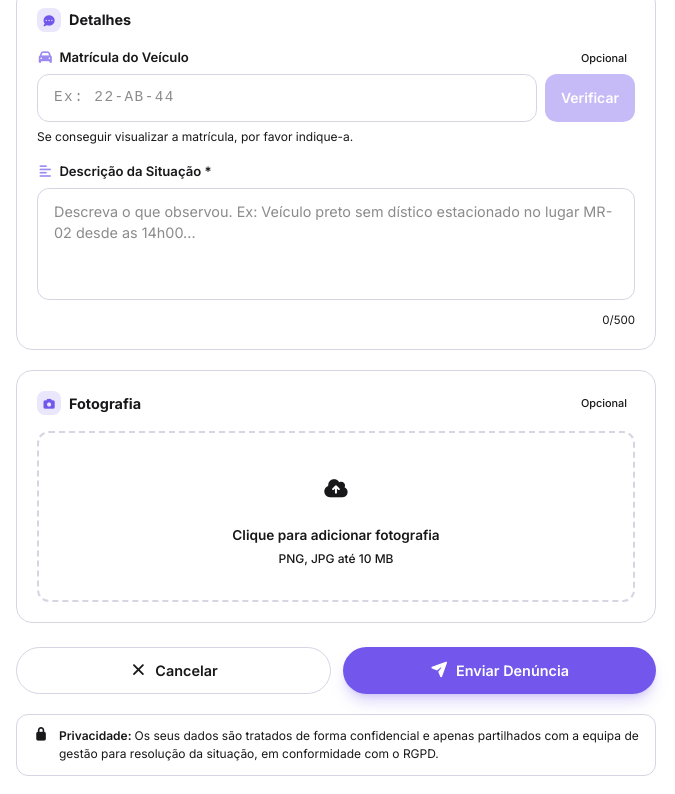
it: ReportPage — Step1Form › shows validation errors on empty submit
(page scrolled)
Click the button "Enviar Denúncia": [500, 670] box [343, 647, 656, 694]
(page scrolled)
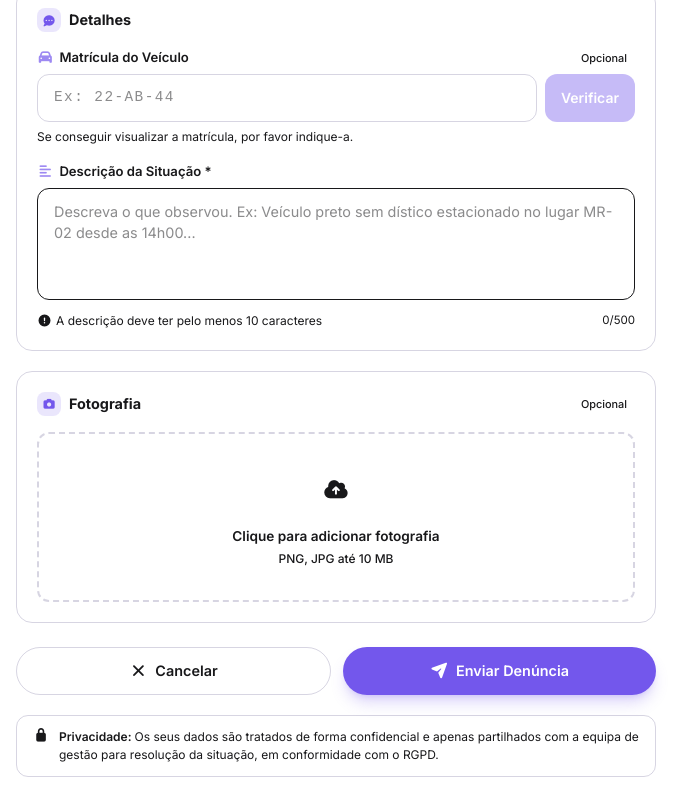
Expected: the text "A descrição deve ter pelo menos 10 caracteres" is shown, [37, 312, 322, 330]
